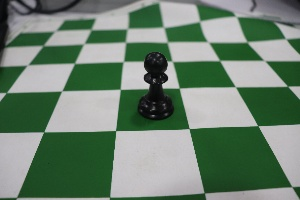black_pawn: (129, 41, 180, 122)
